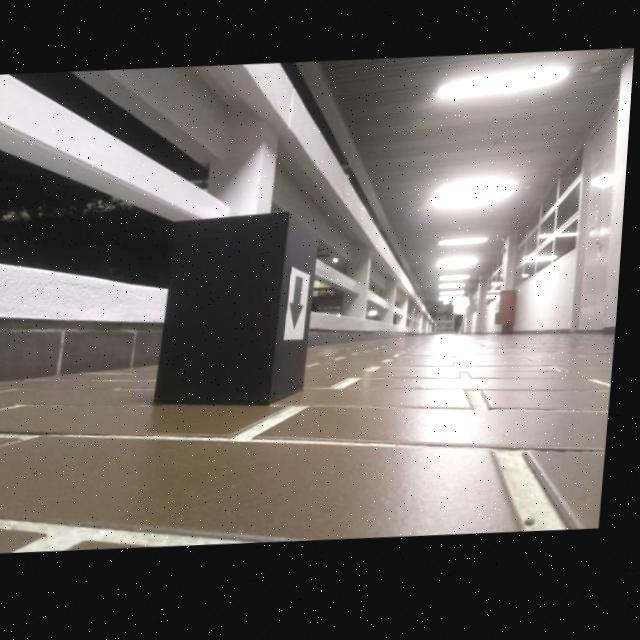DOWN: (293, 279, 309, 335)
